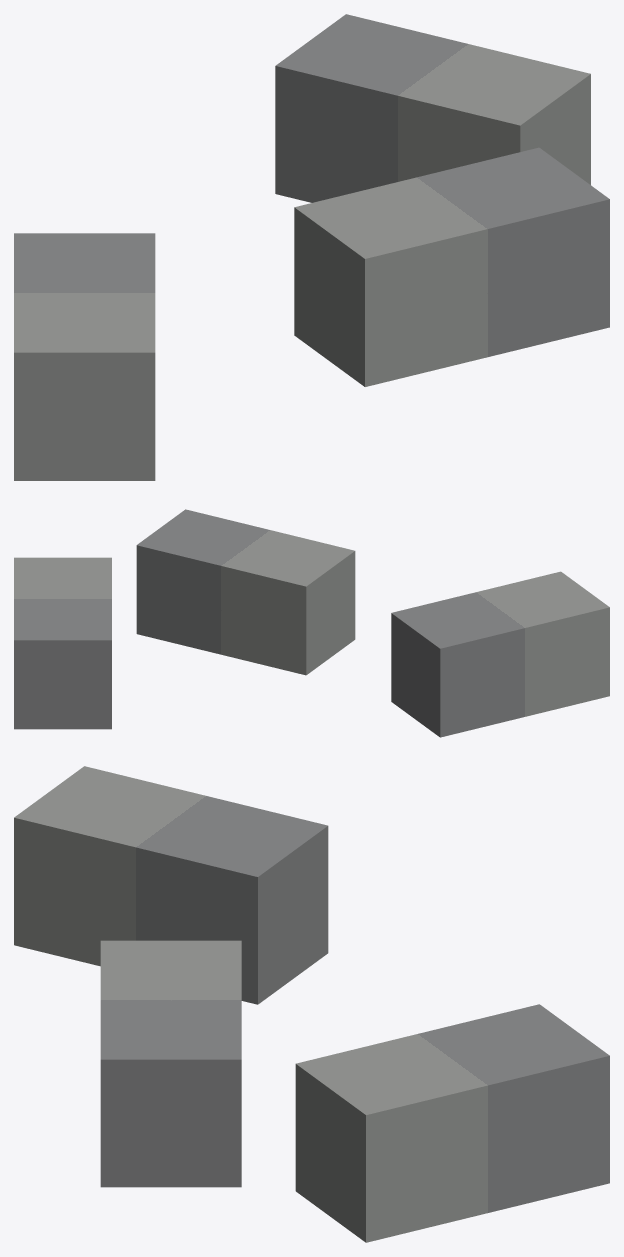
File: cotton-seeds.gltf
The picture shows the model from 3 angles, top to bottom: view 1: azimuth 30°, elevation 25°; view 2: azimuth 150°, elevation 25°; view 3: azimuth 270°, elevation 25°; orthographic projection. The views are drawn at different scales.
Parts seen in each view (by area): view 1: cube (×3); view 2: cube (×3); view 3: cube (×3).
Part boxes in pixels (left/top/right/bottom): cube (×3): left=14, top=14, right=609, bottom=480; cube (×3): left=14, top=509, right=609, bottom=737; cube (×3): left=14, top=766, right=609, bottom=1242.
Bounding box in the file's own units: 0.3666 × 0.0625 × 0.2645.
1 material, 1 textured.
